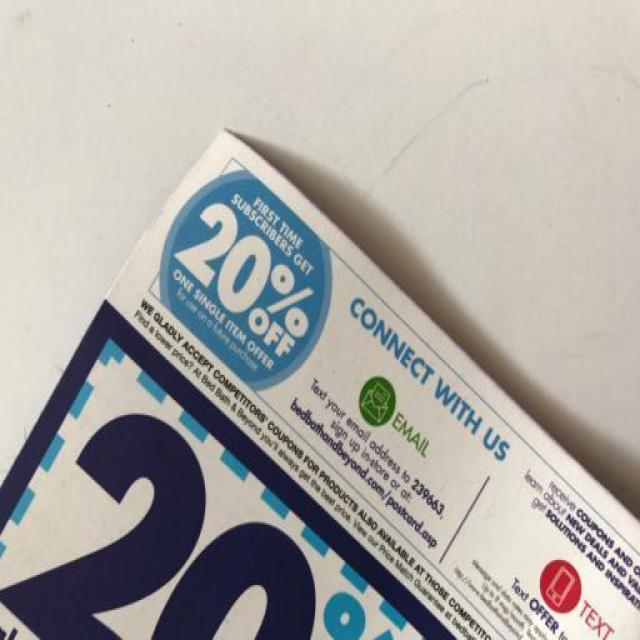paper: (1, 126, 640, 640)
